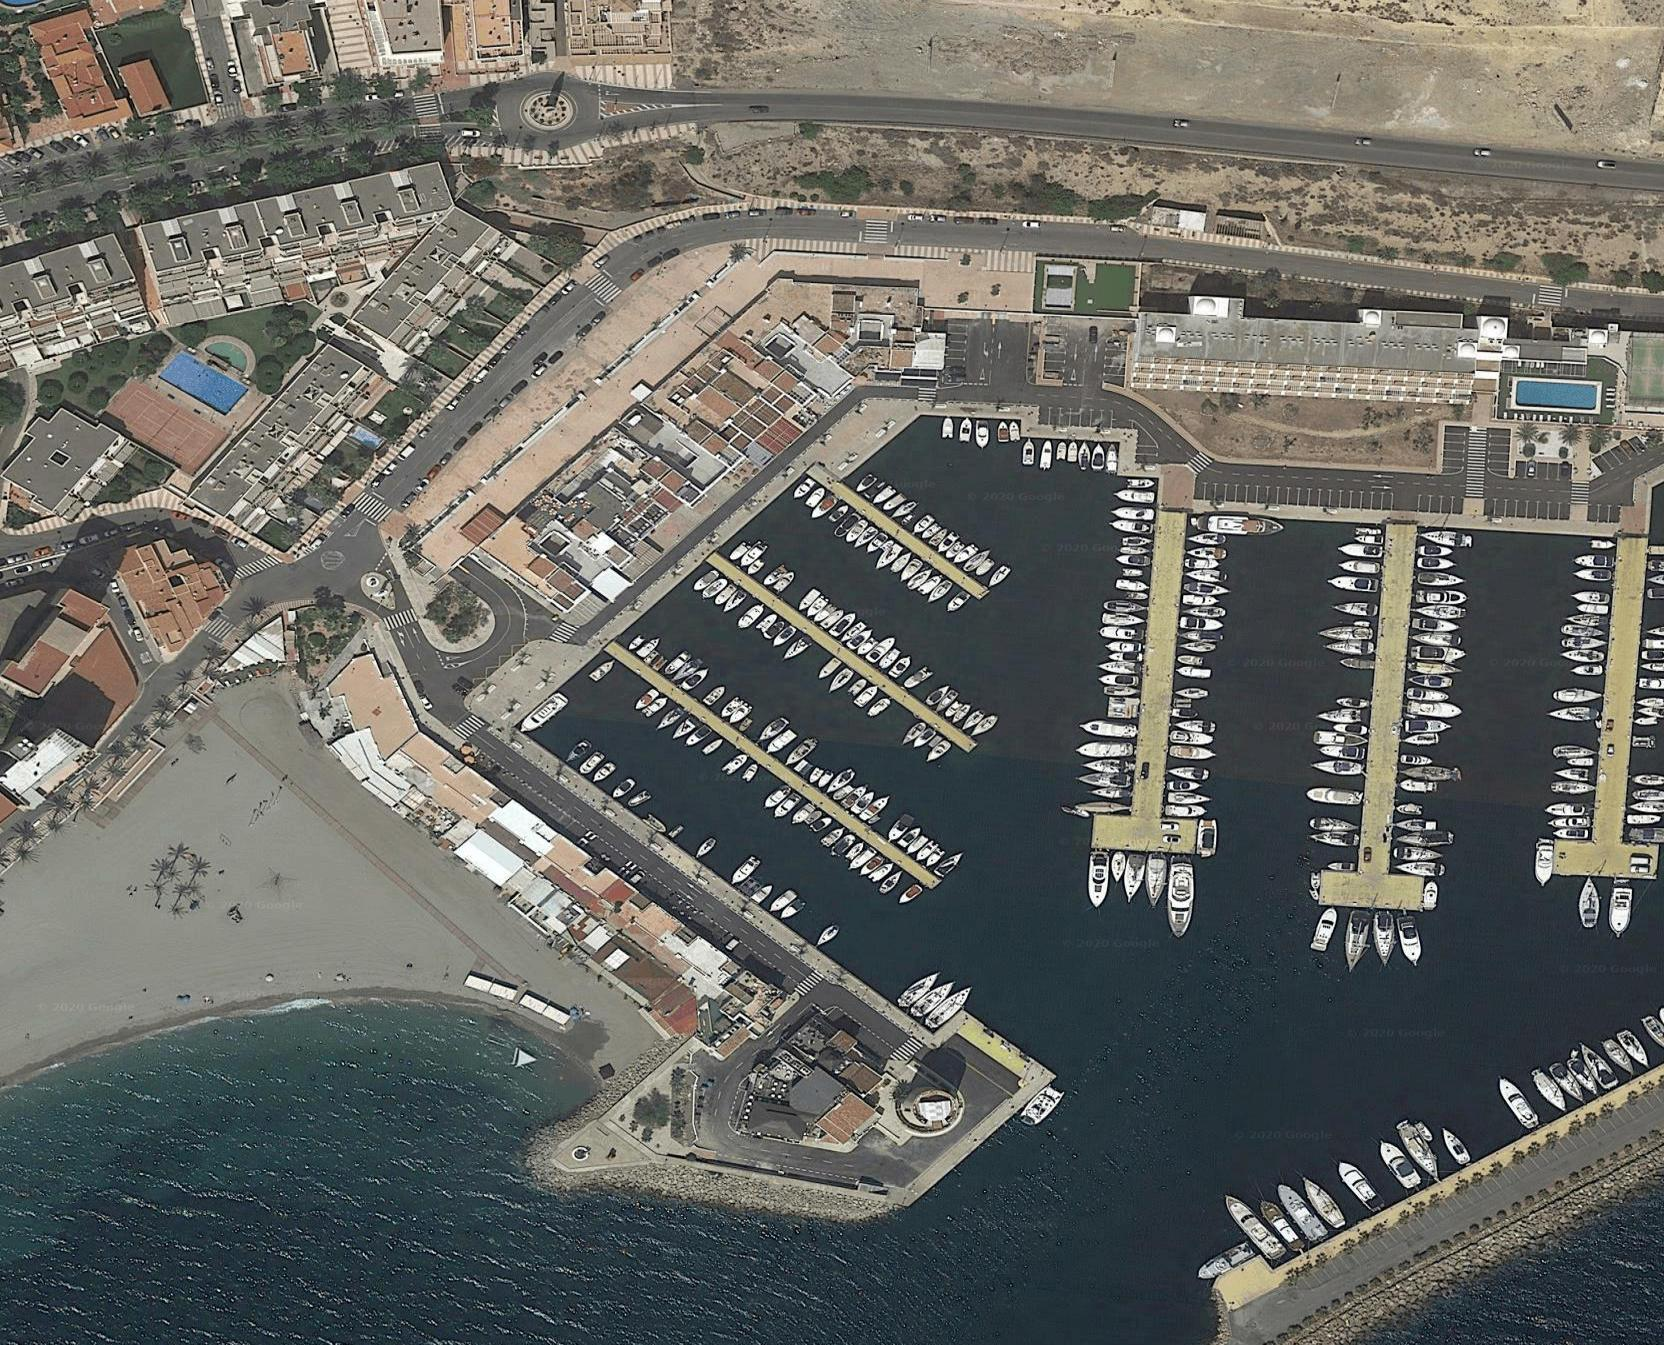harbor: (1182, 1011, 1664, 1345), (593, 633, 942, 902), (1049, 497, 1265, 882), (1292, 505, 1468, 940), (697, 543, 984, 762), (1534, 508, 1664, 904), (796, 458, 995, 611)
roundabout: (497, 70, 604, 151)
ship: (1224, 1191, 1298, 1265), (1497, 1073, 1545, 1130), (1165, 856, 1195, 937), (759, 721, 798, 753), (1609, 887, 1634, 937), (1440, 1128, 1472, 1167), (1534, 841, 1558, 889), (1401, 920, 1424, 968), (1580, 882, 1601, 929)
swimming-pool: (1510, 373, 1605, 419)
